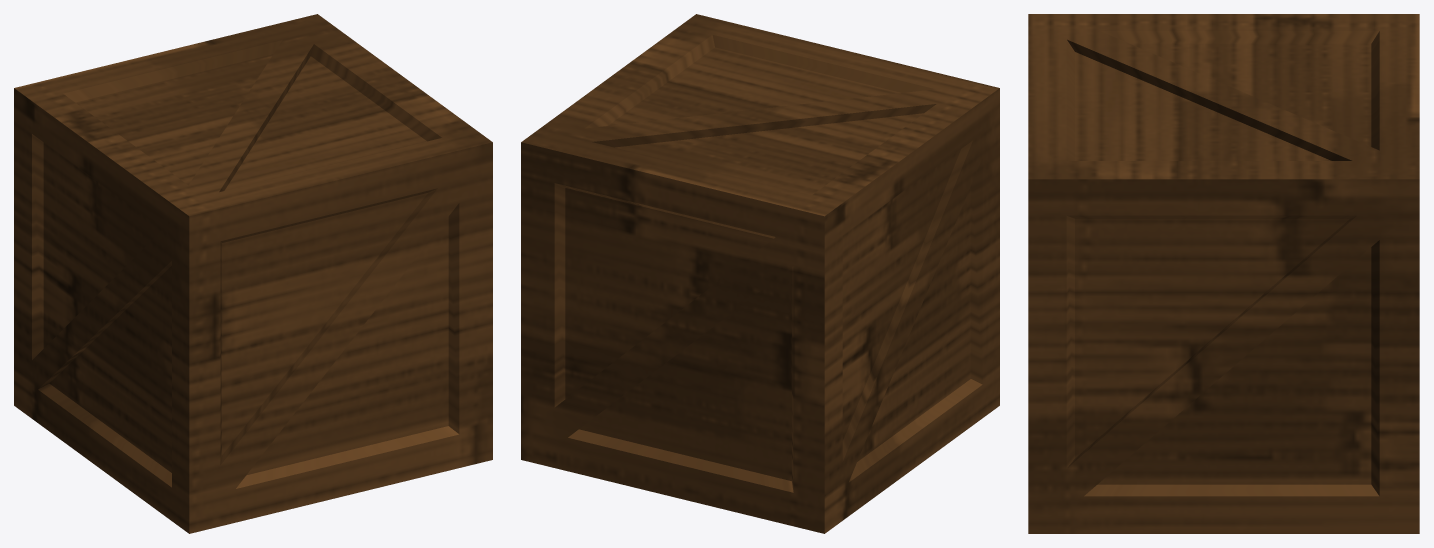
The model's file is cratetextured.fbx.
3 renders of one model, left to right at view 1: azimuth 30°, elevation 25°; view 2: azimuth 150°, elevation 25°; view 3: azimuth 270°, elevation 25°, orthographic. The views are drawn at different scales.
Visible parts, largest first — view 1: pCube1; view 2: pCube1; view 3: pCube1.
Part boxes in pixels (x1,y1,x2,y2): pCube1: (14, 14, 492, 533); pCube1: (521, 14, 999, 533); pCube1: (1028, 14, 1419, 533).
Size of the model in its own units: 6.42 by 6.42 by 6.42.
